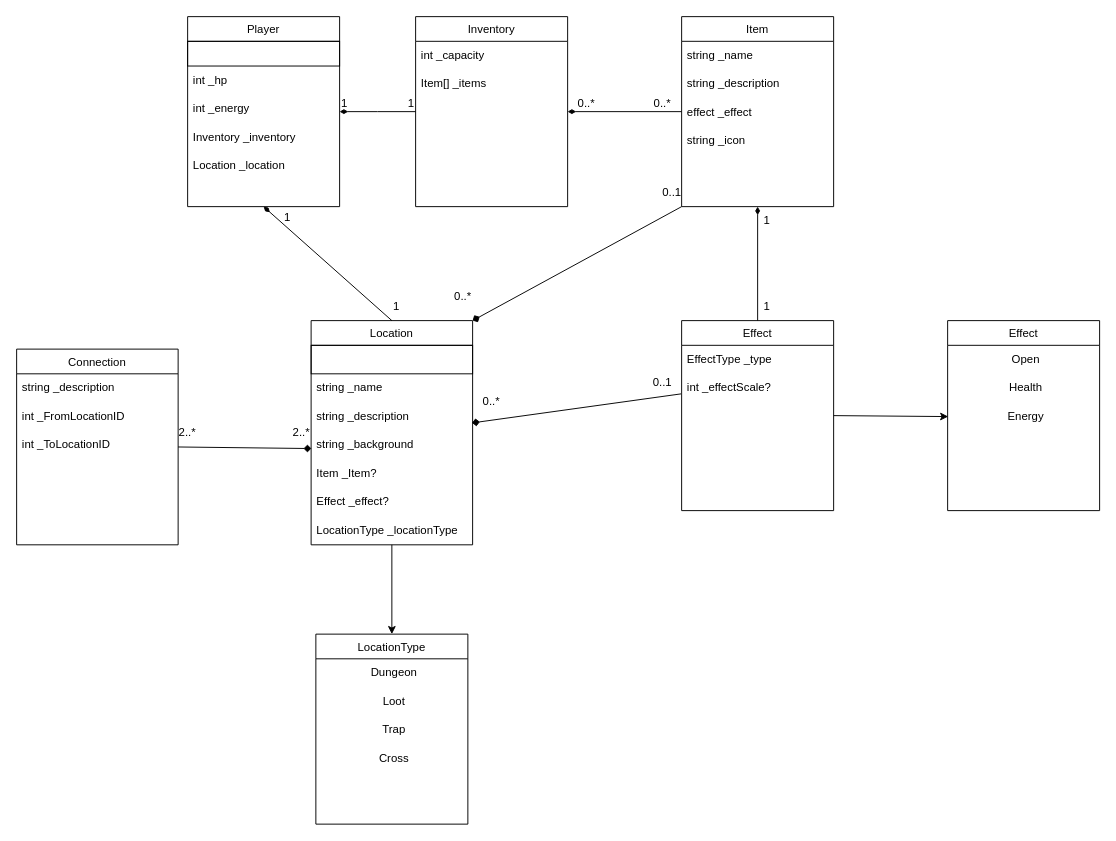
The diagram is 1116 pixels wide and 841 high, and some of its shapes have lost their labels. The centre of each missing label's shape, as x and y in pixels:
"int _LocationID" goes at point 391,359.
"int PlayerID" goes at point 263,53.
